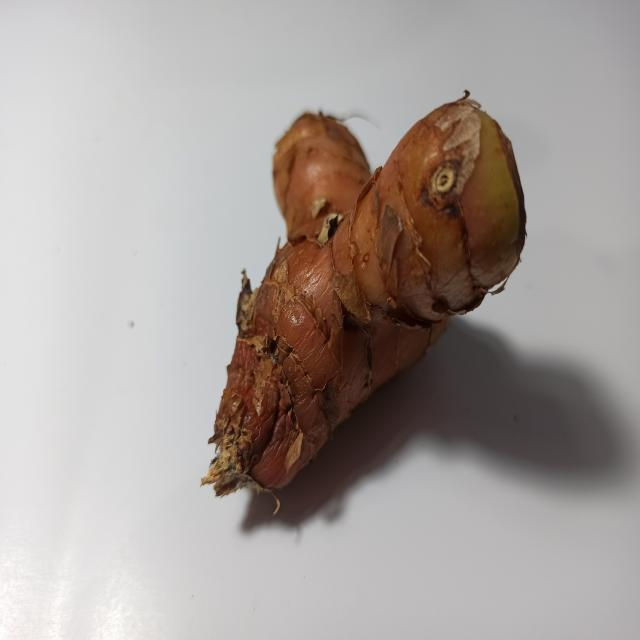ginger: (202, 90, 520, 512)
